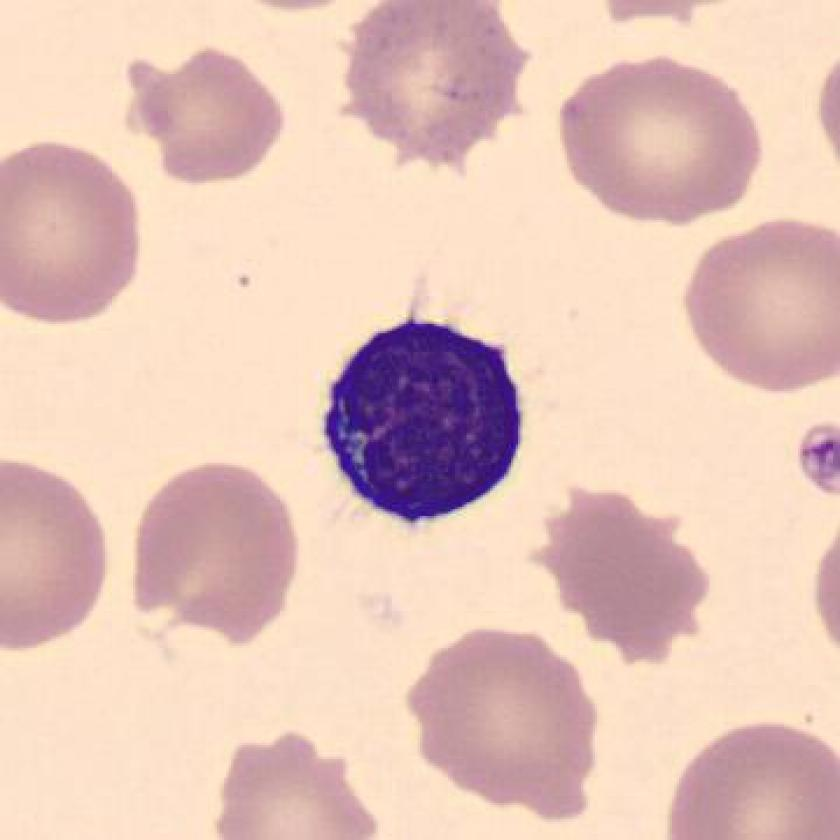lymphocyte: (300, 295, 542, 547)
